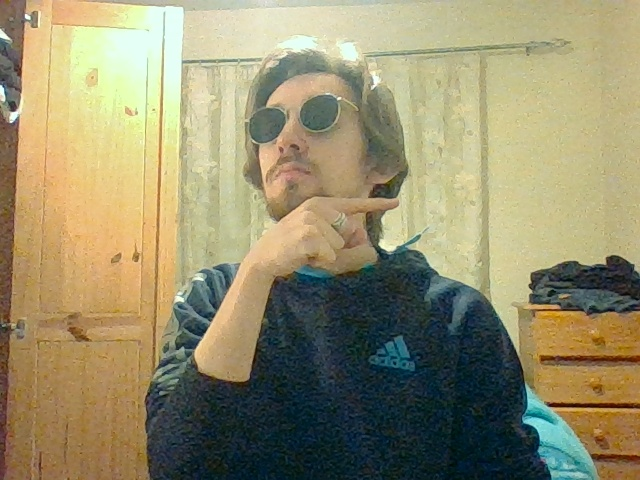son: (291, 196, 400, 263)
